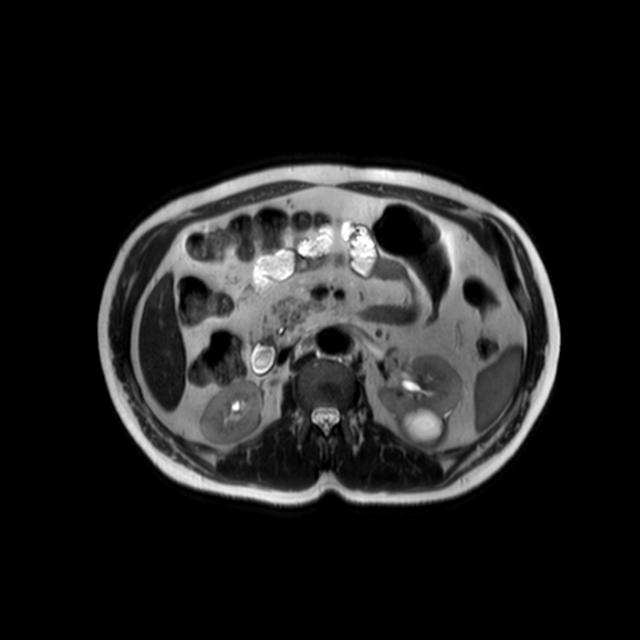sag: (201, 380, 266, 446)
sol: (381, 354, 466, 447)
